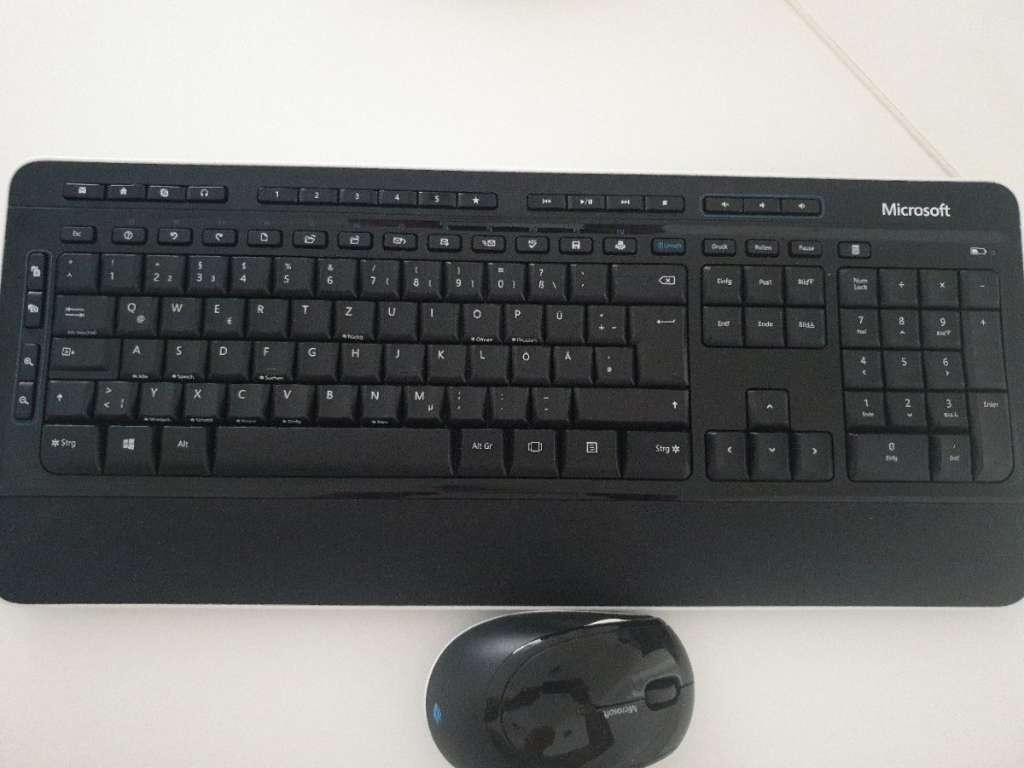0: (484, 257, 522, 297)
1: (97, 249, 137, 289)
2: (142, 250, 180, 289)
3: (184, 250, 223, 289)
4: (228, 251, 267, 289)
5: (271, 252, 309, 289)
6: (314, 254, 353, 292)
7: (357, 255, 396, 293)
8: (400, 255, 436, 295)
9: (441, 256, 479, 295)
a: (118, 335, 159, 375)
accent: (567, 258, 603, 298)
ae: (550, 342, 590, 381)
alt-left: (156, 422, 207, 471)
altgr-right: (455, 424, 503, 472)
b: (314, 380, 354, 417)
c: (225, 379, 265, 415)
caret: (54, 249, 93, 289)
comma: (445, 382, 481, 418)
d: (206, 336, 247, 375)
del: (609, 259, 685, 301)
e: (200, 293, 240, 333)
enter: (628, 303, 684, 385)
f: (252, 337, 290, 377)
g: (294, 338, 335, 376)
h: (339, 339, 378, 377)
hash: (593, 343, 630, 381)
i: (418, 298, 455, 337)
j: (382, 340, 421, 379)
k: (425, 340, 463, 378)
keyboard: (11, 157, 1018, 504)
l: (467, 341, 505, 379)
less: (92, 376, 131, 415)
m: (402, 381, 439, 417)
minus: (529, 383, 566, 417)
n: (358, 380, 396, 417)
o: (459, 299, 497, 336)
oe: (509, 342, 547, 379)
p: (501, 299, 539, 338)
plus: (584, 301, 623, 340)
point: (488, 382, 525, 417)
q: (113, 291, 154, 331)
r: (244, 294, 285, 333)
s: (163, 336, 202, 375)
shift-left: (42, 377, 89, 416)
shift-lock: (47, 333, 116, 372)
shift-right: (573, 383, 685, 420)
space: (212, 422, 449, 476)
ss: (525, 258, 562, 297)
strg-left: (36, 421, 96, 472)
strg-right: (623, 427, 692, 478)
t: (288, 295, 328, 334)
tab: (52, 290, 109, 331)
u: (374, 296, 414, 337)
ue: (542, 300, 581, 340)
v: (269, 379, 308, 417)
w: (158, 292, 196, 332)
x: (181, 378, 218, 414)
y: (136, 377, 176, 414)
z: (332, 296, 371, 335)
